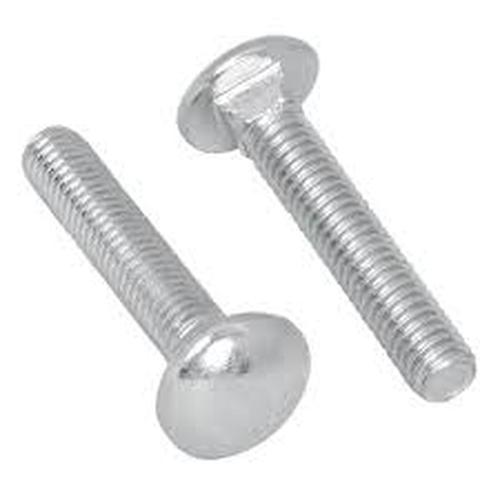Tornillo: (173, 33, 482, 404), (18, 122, 315, 463)
